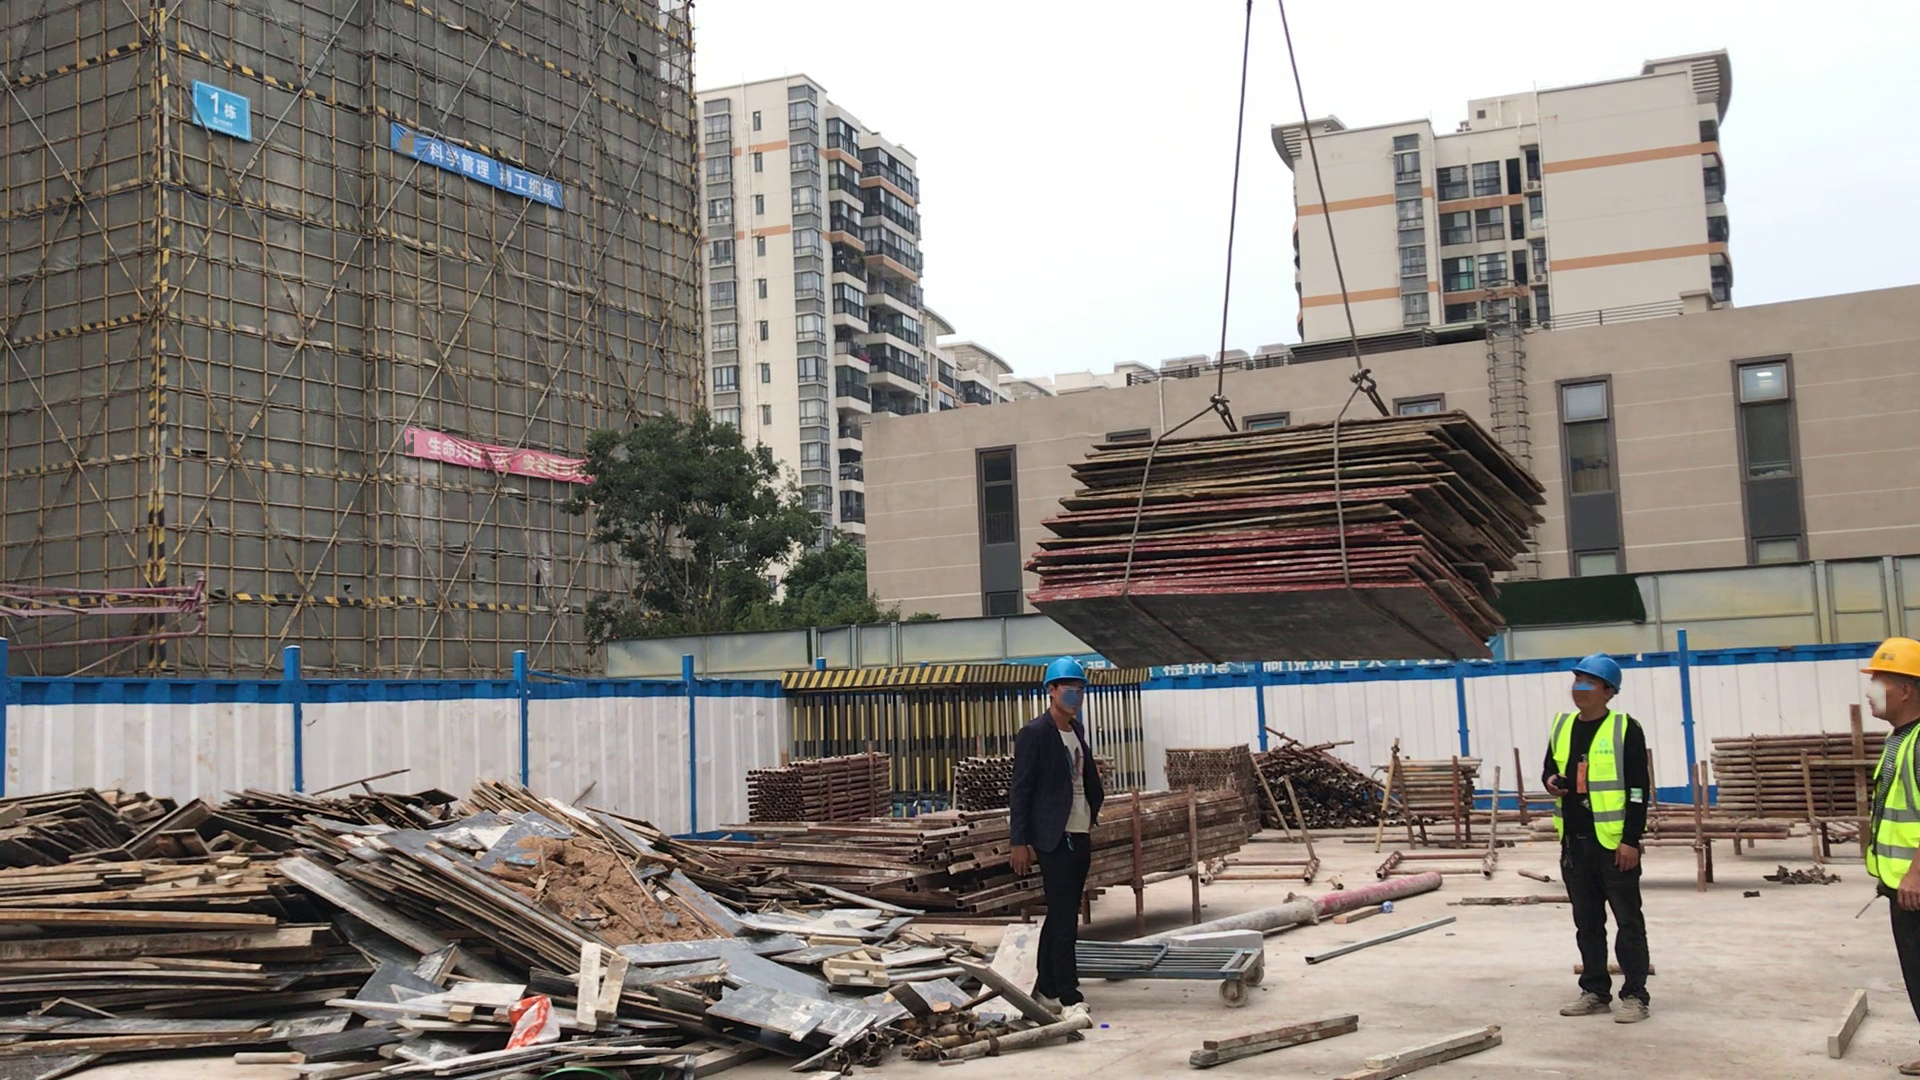board: (1018, 410, 1544, 673)
helmet: (1862, 637, 1920, 676), (1572, 652, 1623, 690), (1038, 659, 1086, 683)
person: (1543, 656, 1659, 1023), (1008, 658, 1096, 1024), (1859, 642, 1919, 1080)
scaffold: (1720, 733, 1865, 818), (750, 744, 888, 815), (1392, 756, 1474, 827), (1172, 744, 1244, 796), (961, 755, 1014, 815)
slogan: (422, 136, 558, 209), (428, 431, 581, 483)
vest: (1551, 708, 1626, 851), (1864, 735, 1920, 911)
